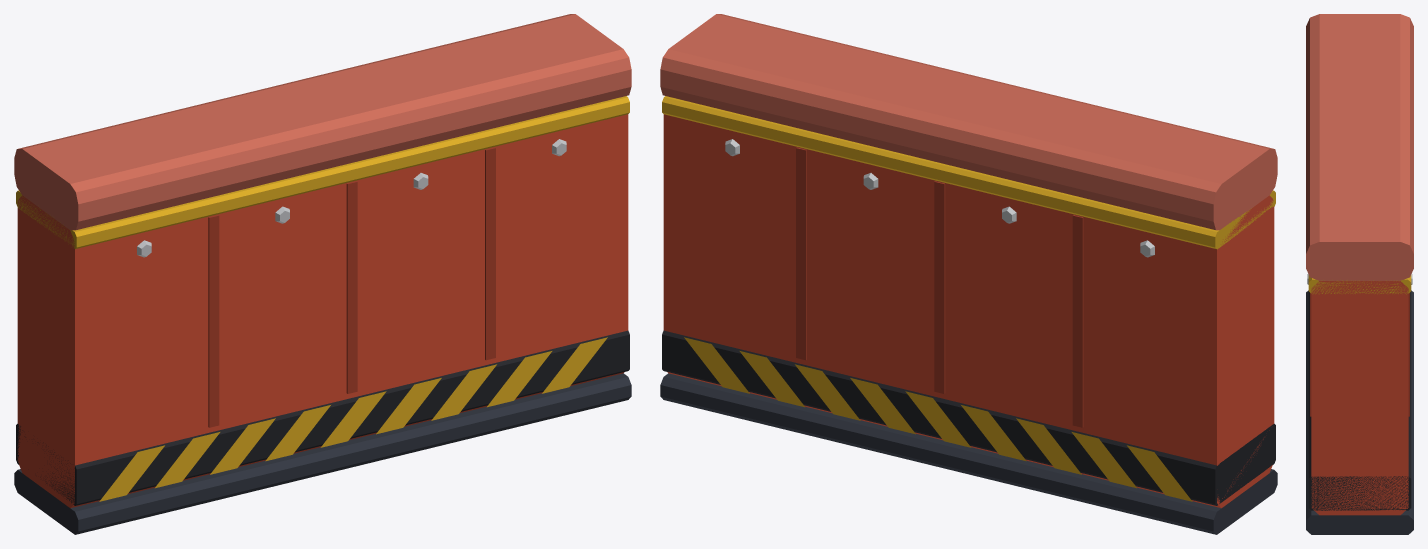
Rendered from toy-wall1.glb.
3 renders of one model, left to right at view 1: azimuth 30°, elevation 25°; view 2: azimuth 150°, elevation 25°; view 3: azimuth 270°, elevation 25°, orthographic. The views are drawn at different scales.
Visible parts, largest first — view 1: toy-wall1; view 2: toy-wall1; view 3: toy-wall1.
Boxes of the visible parts, x1=… form: toy-wall1: x1=14, y1=14, x2=631, y2=534; toy-wall1: x1=660, y1=14, x2=1277, y2=534; toy-wall1: x1=1306, y1=14, x2=1413, y2=534.
Bounding box in the file's own units: 2 × 1.2 × 0.4.
